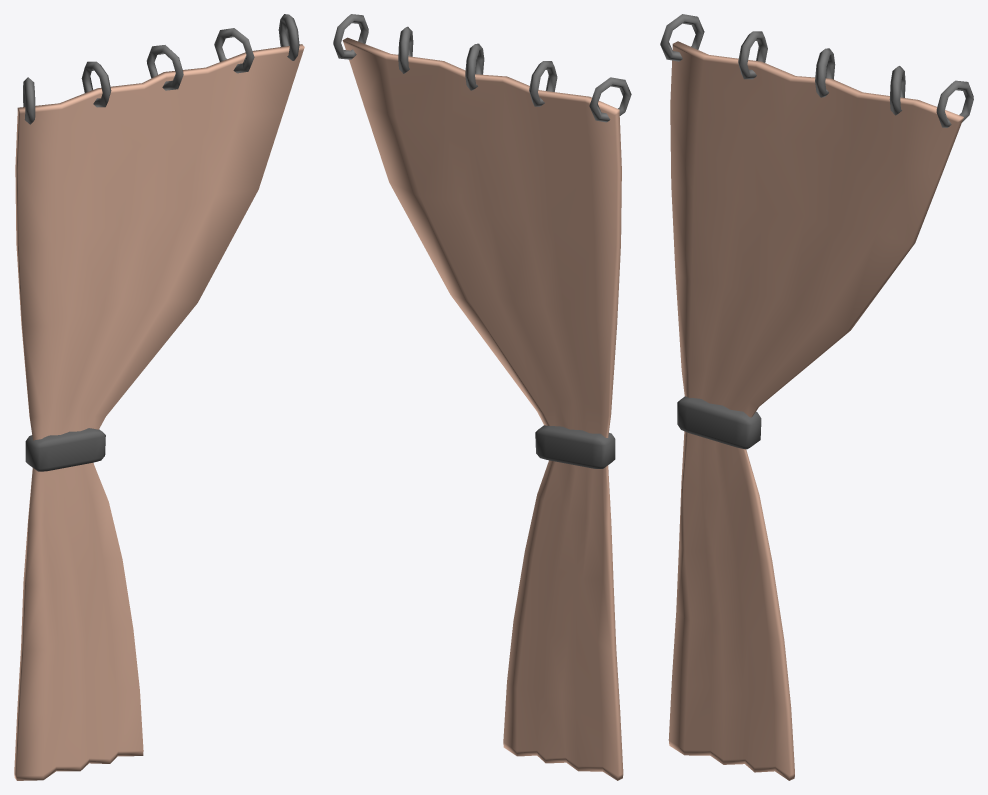
File: curtain_006.fbx
3 views of the same model, side by side, from view 1: azimuth 30°, elevation 25°; view 2: azimuth 150°, elevation 25°; view 3: azimuth 330°, elevation 25° (orthographic). The views are drawn at different scales.
Visible parts, largest first — view 1: curtain_006; view 2: curtain_006; view 3: curtain_006.
Boxes of the visible parts, bbox=[...] form: curtain_006: bbox=[14, 14, 304, 780]; curtain_006: bbox=[333, 14, 631, 780]; curtain_006: bbox=[660, 14, 973, 780].
Bounding box in the file's own units: 147 × 22.83 × 348.
